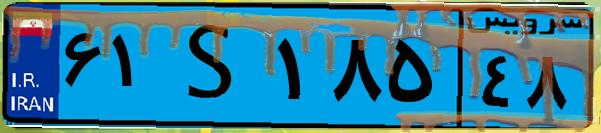1: (270, 28, 330, 110), (110, 28, 158, 98)
4: (475, 38, 525, 113)
5: (385, 28, 445, 110)
6: (57, 26, 110, 100)
8: (330, 28, 385, 110), (525, 38, 570, 115)
S: (158, 12, 270, 120)
